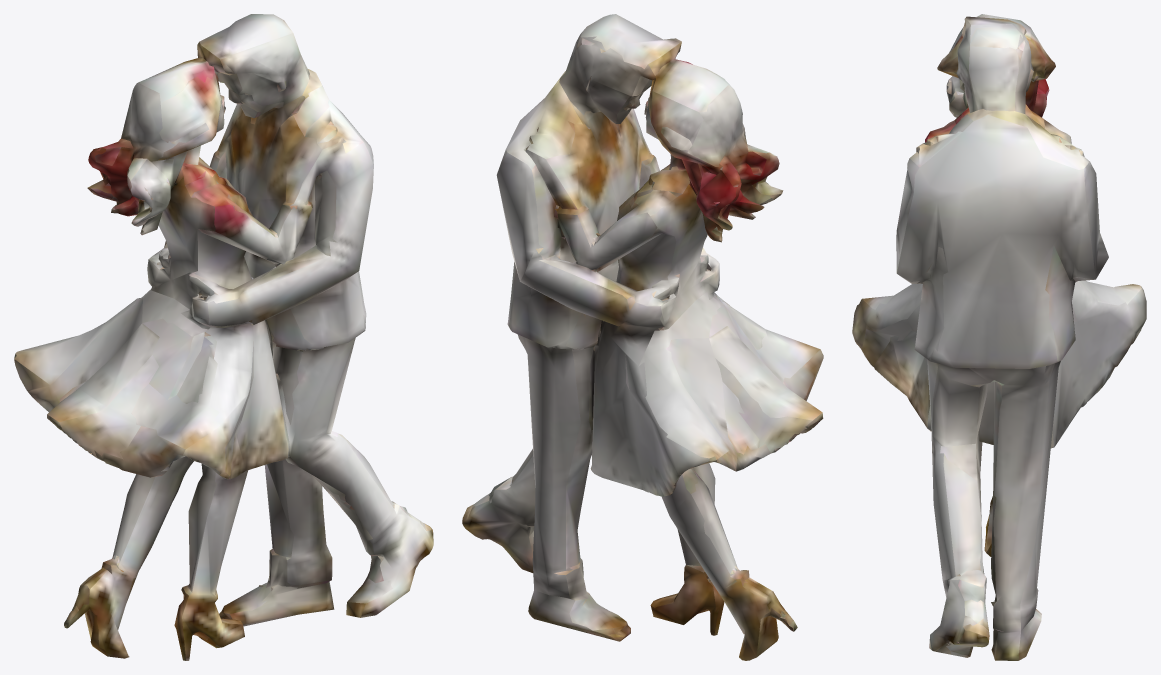
Rendered from Couple1.glb.
3 renders of one model, left to right at view 1: azimuth 30°, elevation 25°; view 2: azimuth 150°, elevation 25°; view 3: azimuth 270°, elevation 25°, orthographic.
Visible parts, largest first — view 1: 3d66-Editable_mesh-23179516-001; view 2: 3d66-Editable_mesh-23179516-001; view 3: 3d66-Editable_mesh-23179516-001.
Boxes of the visible parts, x1=… form: 3d66-Editable_mesh-23179516-001: x1=14, y1=14, x2=433, y2=660; 3d66-Editable_mesh-23179516-001: x1=462, y1=14, x2=823, y2=660; 3d66-Editable_mesh-23179516-001: x1=852, y1=14, x2=1146, y2=660.
Size of the model in its own units: 0.628 by 0.9926 by 0.4421.
Materials: 1 (1 with a texture image).
